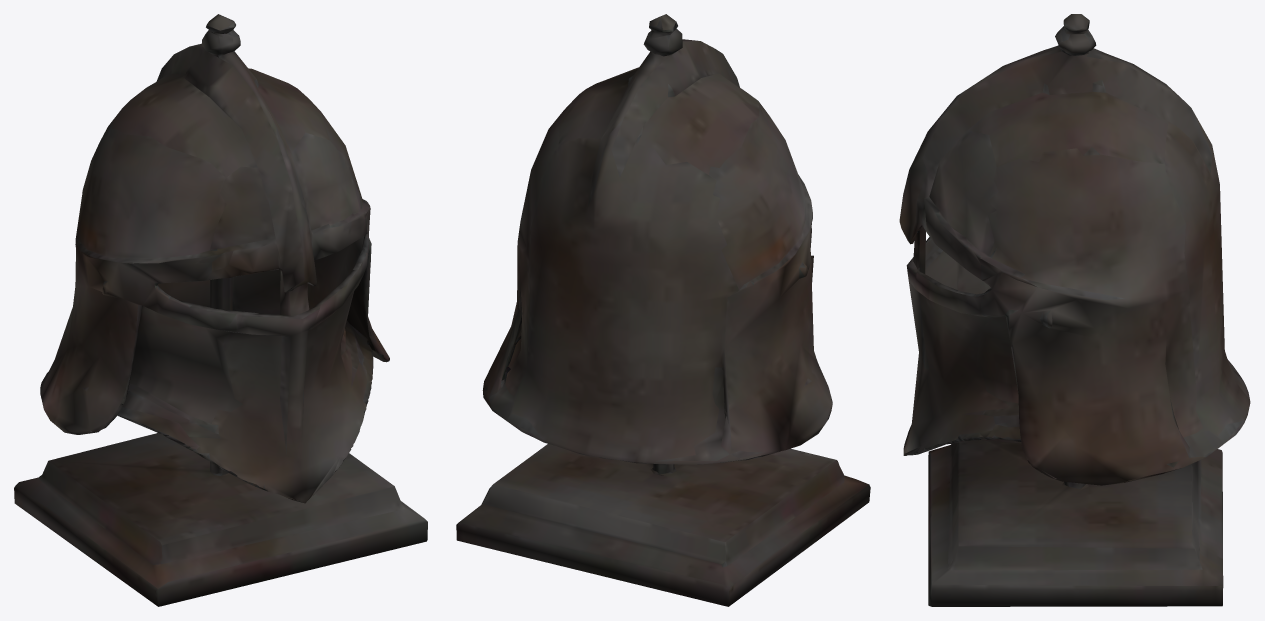
Rendered from rustic-iron-suit-of-armour-v001.glb.
3 renders of one model, left to right at view 1: azimuth 30°, elevation 25°; view 2: azimuth 150°, elevation 25°; view 3: azimuth 270°, elevation 25°, orthographic. The views are drawn at different scales.
Parts seen in each view (by area): view 1: rustic-iron-suit-of-armour; view 2: rustic-iron-suit-of-armour; view 3: rustic-iron-suit-of-armour.
Boxes of the visible parts, x1,y1,x2,y2 form: rustic-iron-suit-of-armour: (14, 14, 427, 606); rustic-iron-suit-of-armour: (456, 14, 870, 606); rustic-iron-suit-of-armour: (899, 14, 1250, 606).
Bounding box in the file's own units: 1.16 × 1.8 × 1.09.
1 material, 1 textured.
